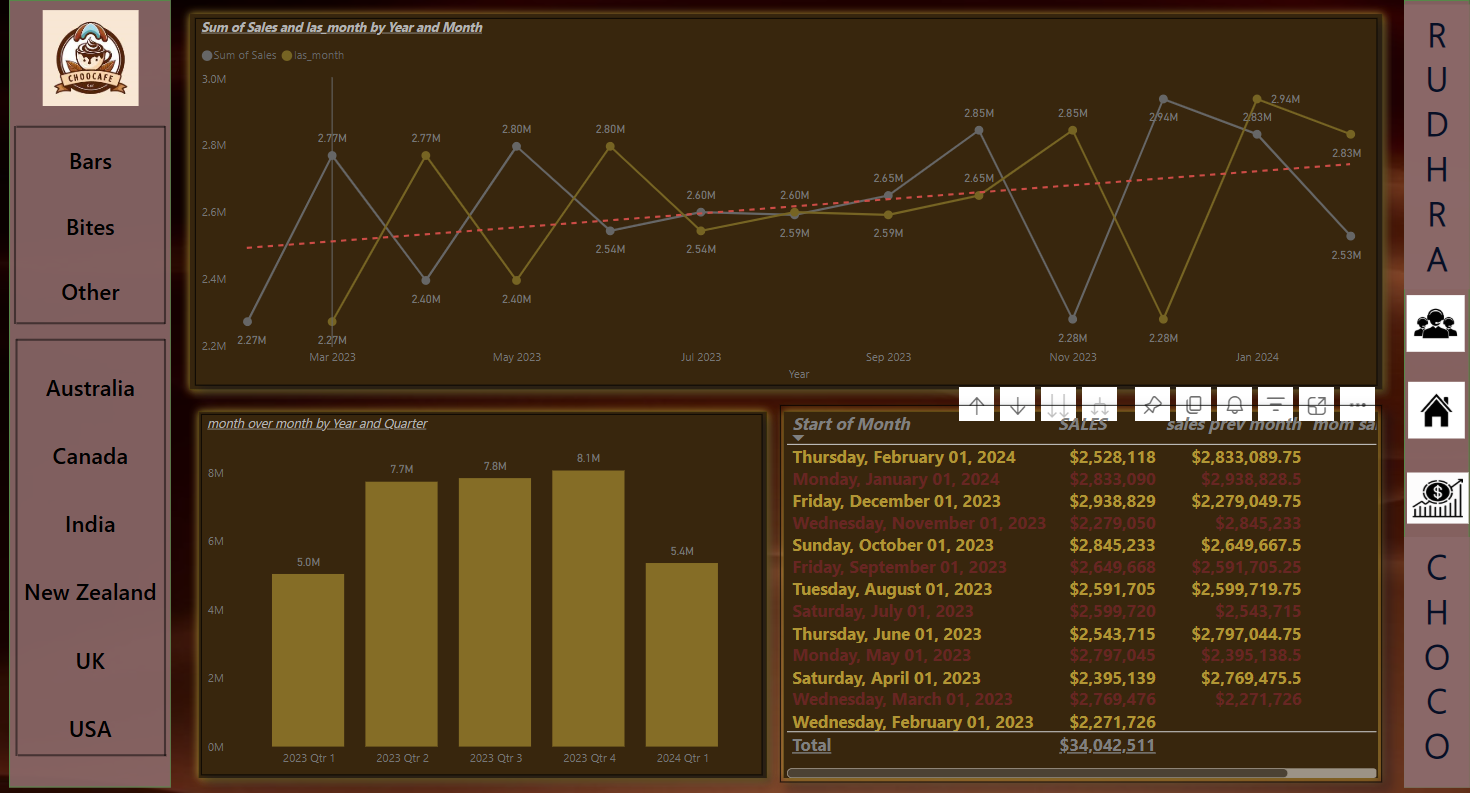

What the dashboard file says about the page in this screenshot:
{"tool":"powerbi","page":{"name":"month on month","canvas":[1400,760],"ordinal":3},"visuals":[{"type":"shape","box":[171.4,4.3,1154.3,375.7],"z":0},{"type":"shape","box":[737.5,382.8,584.4,367.2],"z":250},{"type":"shape","box":[179.7,382.8,559.4,367.2],"z":500},{"type":"shape","box":[8.6,0,154.3,750],"z":1000},{"type":"image","box":[10,4.3,152.9,101.4],"z":2000},{"type":"advancedSlicerVisual","fields":{"Values":["products.Category"]},"box":[10,120,152.9,188.6],"z":3000},{"type":"advancedSlicerVisual","fields":{"Values":["locations.Geo"]},"box":[10,334.3,152.9,395.7],"z":4000},{"type":"shape","box":[15.7,292.9,141.4,30],"z":5000},{"type":"shape","box":[0,120,28.6,188.6],"z":6000},{"type":"shape","box":[142.9,120,28.6,188.6],"z":7000},{"type":"shape","box":[16,106,141.4,30],"z":8000},{"type":"shape","box":[1.4,322.9,28.6,397.1],"z":9000},{"type":"shape","box":[1337.5,0,62.5,750],"z":10000},{"type":"shape","box":[142.9,322.9,28.6,397.1],"z":11000},{"type":"shape","box":[15.7,308.6,141.4,30],"z":12000},{"type":"shape","box":[17.1,704.3,141.4,30],"z":13000},{"type":"image","box":[1334.3,275.7,65.7,64.3],"z":14000},{"type":"image","box":[1340,450,58.6,48.6],"z":16000},{"type":"textbox","box":[1337.1,4.3,62.9,271.4],"z":18000},{"type":"textbox","box":[1337.1,511.4,62.9,238.6],"z":19000},{"type":"lineChart","fields":{"Y":["Sum(shipments.Sales)","shipments.las_month"],"Category":["calendar.Date.Variation.Date Hierarchy.Year","calendar.Date.Variation.Date Hierarchy.Month"]},"box":[185.7,17,1125.7,350],"z":20000},{"type":"columnChart","fields":{"Y":["shipments.month over month"],"Category":["calendar.Date.Variation.Date Hierarchy.Year","calendar.Date.Variation.Date Hierarchy.Quarter"]},"box":[192,394,534.4,343.8],"z":21000},{"type":"tableEx","fields":{"Values":["calendar.Start of Month","calendar.SALES","calendar.totalsales prev month","calendar.mom sales change %"]},"box":[742.2,385.9,573.4,359.4],"z":22000},{"type":"image","box":[1335.7,354.3,64.3,72.9],"z":23000}]}

Visuals, with their boxes in screenshot pixels (x1, y1, x2, y2), scaled from the page's 1400x760 canvas onto the 1470x793 screenshot:
shape: region(180, 4, 1392, 397)
shape: region(774, 399, 1388, 783)
shape: region(189, 399, 776, 783)
shape: region(9, 0, 171, 783)
image: region(10, 4, 171, 110)
advancedSlicerVisual - products.Category: region(10, 125, 171, 322)
advancedSlicerVisual - locations.Geo: region(10, 349, 171, 762)
shape: region(16, 306, 165, 337)
shape: region(0, 125, 30, 322)
shape: region(150, 125, 180, 322)
shape: region(17, 111, 165, 142)
shape: region(1, 337, 32, 751)
shape: region(1404, 0, 1469, 783)
shape: region(150, 337, 180, 751)
shape: region(16, 322, 165, 353)
shape: region(18, 735, 166, 766)
image: region(1401, 288, 1469, 355)
image: region(1407, 470, 1469, 520)
textbox: region(1404, 4, 1469, 288)
textbox: region(1404, 534, 1469, 783)
lineChart - Sum(shipments.Sales) x shipments.las_month: region(195, 18, 1377, 383)
columnChart - shipments.month over month x calendar.Date.Variation.Date Hierarchy.Year: region(202, 411, 763, 770)
tableEx - calendar.Start of Month x calendar.SALES: region(779, 403, 1381, 778)
image: region(1402, 370, 1469, 446)
